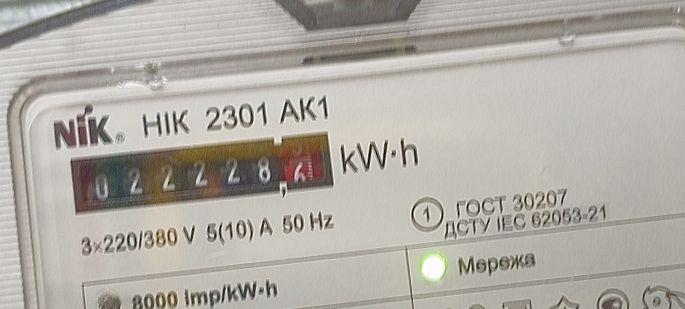0: (93, 171, 112, 201)
2: (126, 164, 147, 196), (225, 155, 245, 185), (160, 161, 179, 192), (192, 157, 212, 186)
5: (290, 136, 307, 157)
6: (292, 159, 310, 181)
8: (257, 154, 275, 184)
screen: (62, 119, 346, 223)
